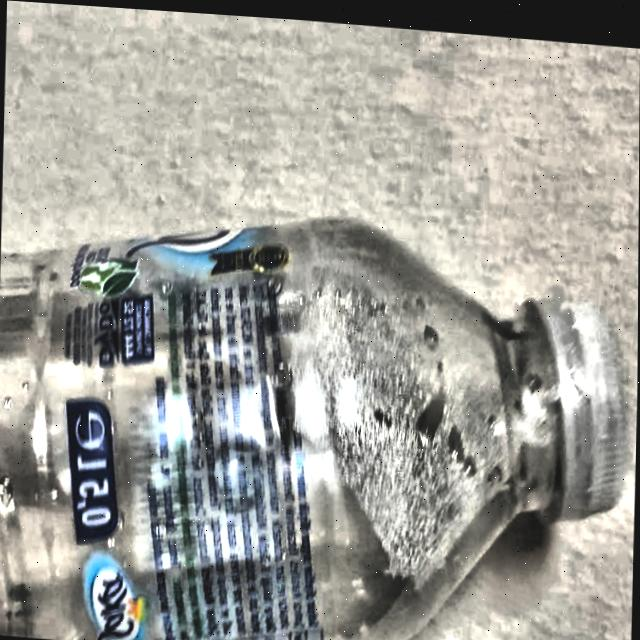plastic: (0, 209, 627, 640)
